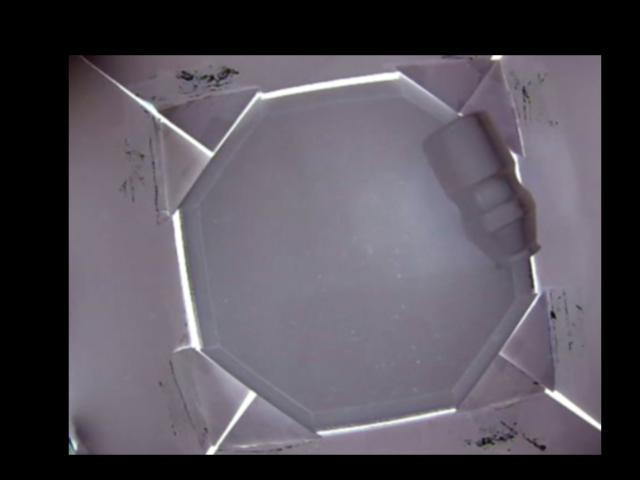Bottle: (414, 111, 543, 269)
